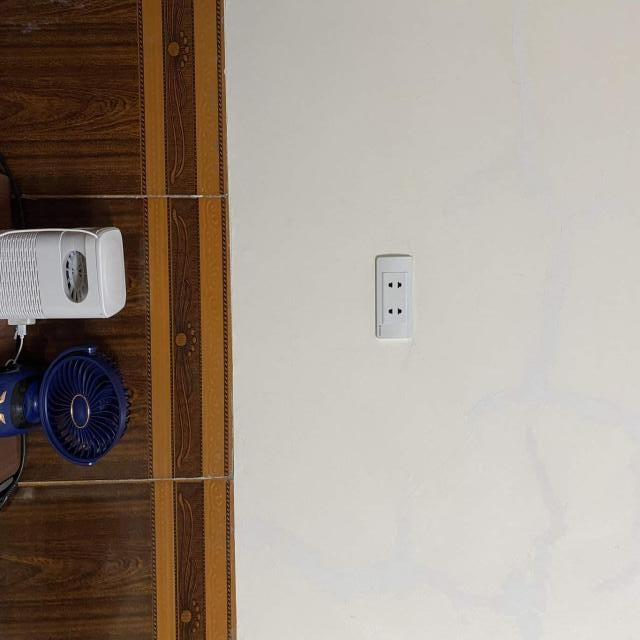outlet: (376, 254, 415, 339)
